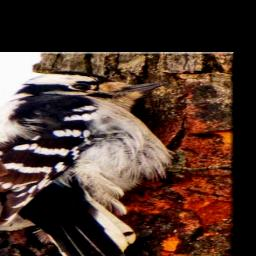Woodpecker: (0, 67, 230, 256)
